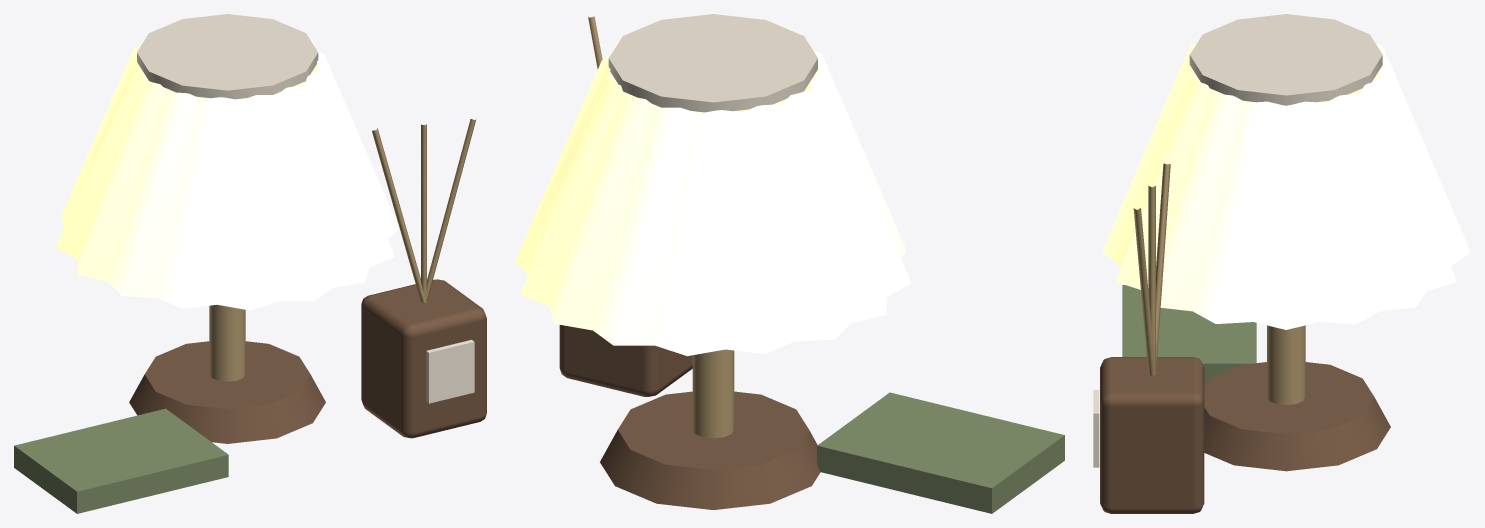
The model's file is bedroom_ref_bedside_top.glb.
3 views of the same model, side by side, from view 1: azimuth 30°, elevation 25°; view 2: azimuth 150°, elevation 25°; view 3: azimuth 270°, elevation 25° (orthographic). The views are drawn at different scales.
Size of the model in its own units: 0.6699 by 0.5514 by 0.5065.
